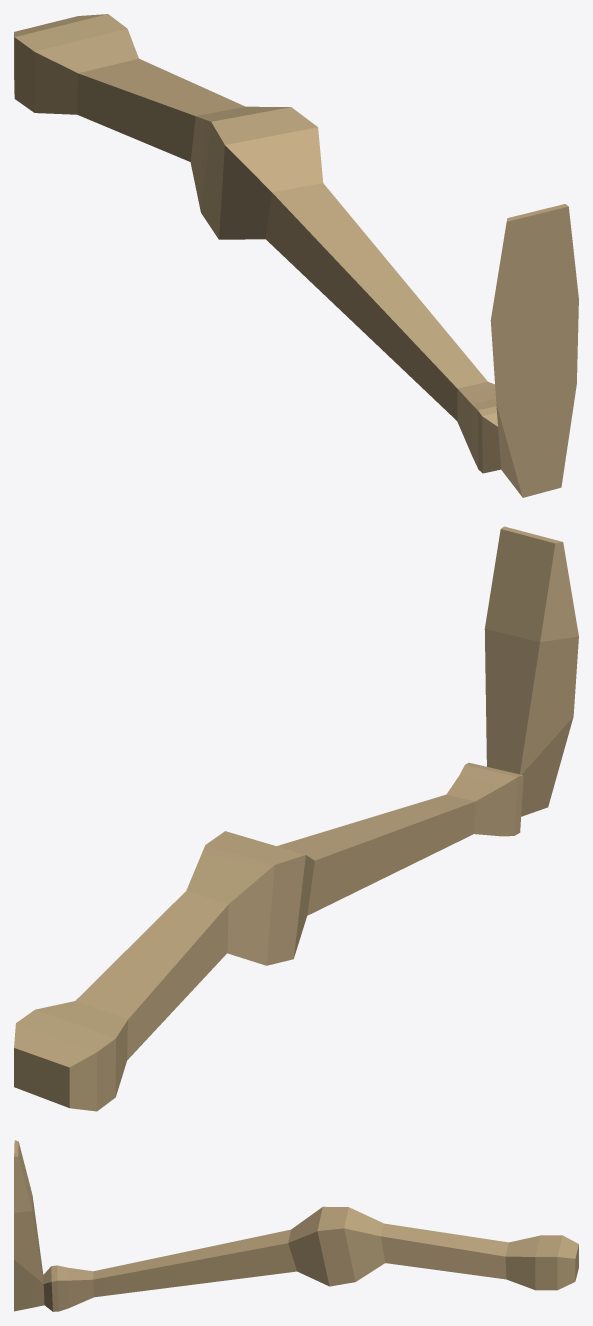
File: Skeleton_leg_r.fbx
The picture shows the model from 3 angles, top to bottom: view 1: azimuth 30°, elevation 25°; view 2: azimuth 150°, elevation 25°; view 3: azimuth 270°, elevation 25°; orthographic projection. The views are drawn at different scales.
Visible parts, largest first — view 1: Skeleton_leg_r; view 2: Skeleton_leg_r; view 3: Skeleton_leg_r.
Part boxes in pixels (x1,y1,x2,y2): Skeleton_leg_r: (14,14,578,497); Skeleton_leg_r: (14,526,578,1111); Skeleton_leg_r: (14,1140,578,1311).
Bounding box in the file's own units: 10.38 × 27.51 × 89.48.
